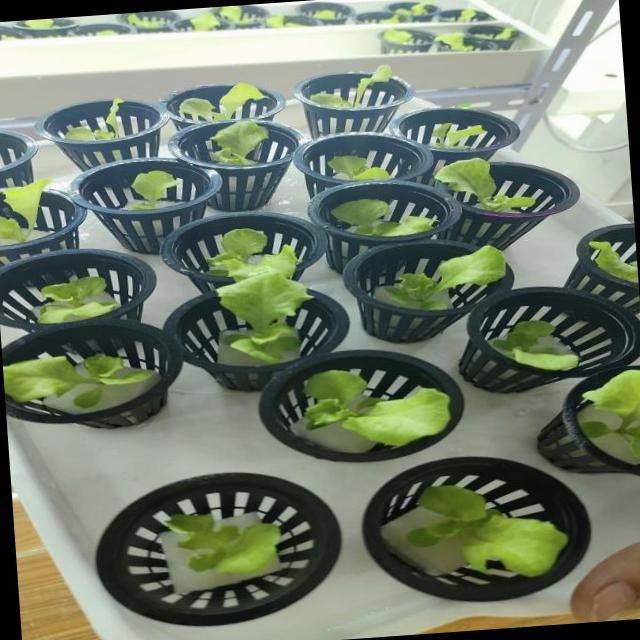Lettuce-Not-Ready-to-Harvest: (407, 485, 568, 577), (302, 369, 450, 446), (216, 273, 313, 362), (3, 353, 151, 408), (385, 245, 505, 310), (167, 514, 280, 573), (433, 157, 535, 212), (581, 370, 640, 462), (205, 228, 298, 282), (488, 320, 579, 372), (329, 199, 437, 236), (38, 276, 119, 324), (309, 64, 392, 109), (0, 178, 54, 242), (179, 82, 264, 121), (65, 97, 124, 141), (211, 121, 269, 165), (587, 240, 638, 283), (127, 170, 179, 210), (327, 155, 390, 181), (432, 122, 484, 150), (434, 33, 474, 51), (218, 5, 252, 24), (394, 0, 433, 16), (127, 13, 164, 28), (190, 12, 219, 31), (265, 14, 301, 28), (381, 27, 412, 43), (24, 18, 55, 29), (456, 8, 475, 23), (493, 27, 514, 40), (312, 9, 336, 19)
